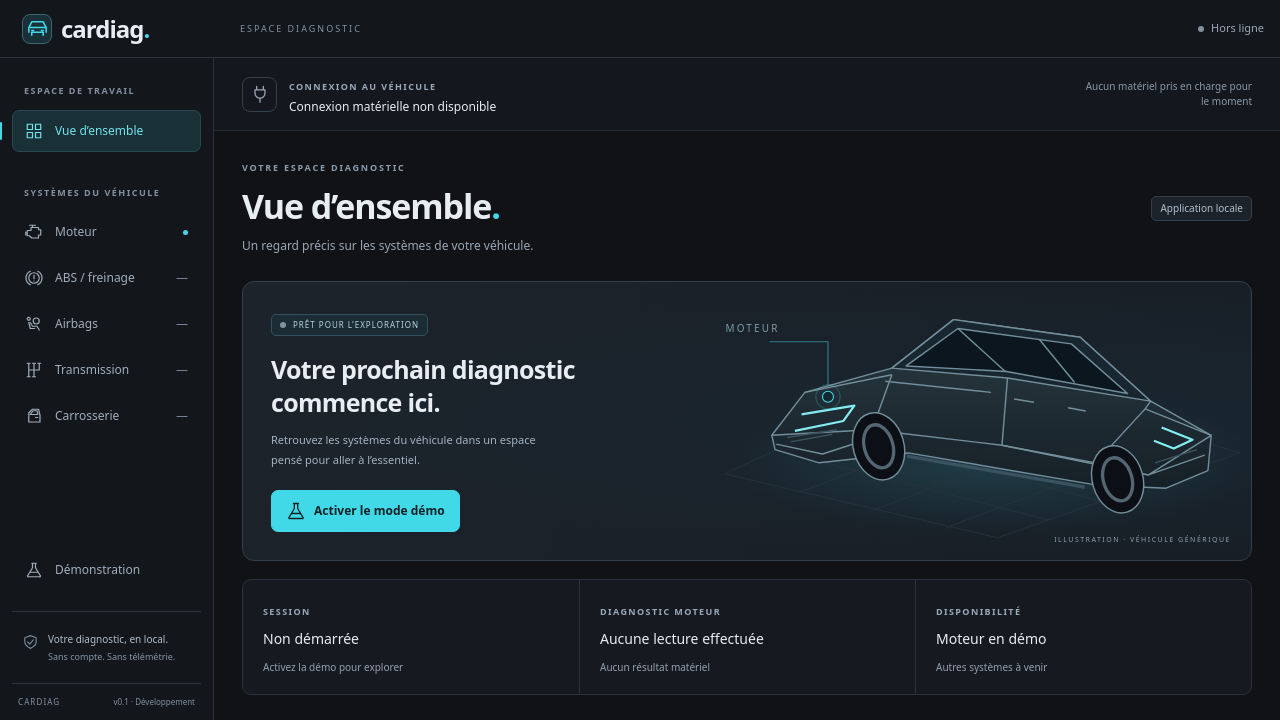
Test: parcours de diagnostic simulé › garde la bannière démo si le service disparaît
Click the button "Activer le mode démo" at (365, 511), box [271, 490, 460, 532]
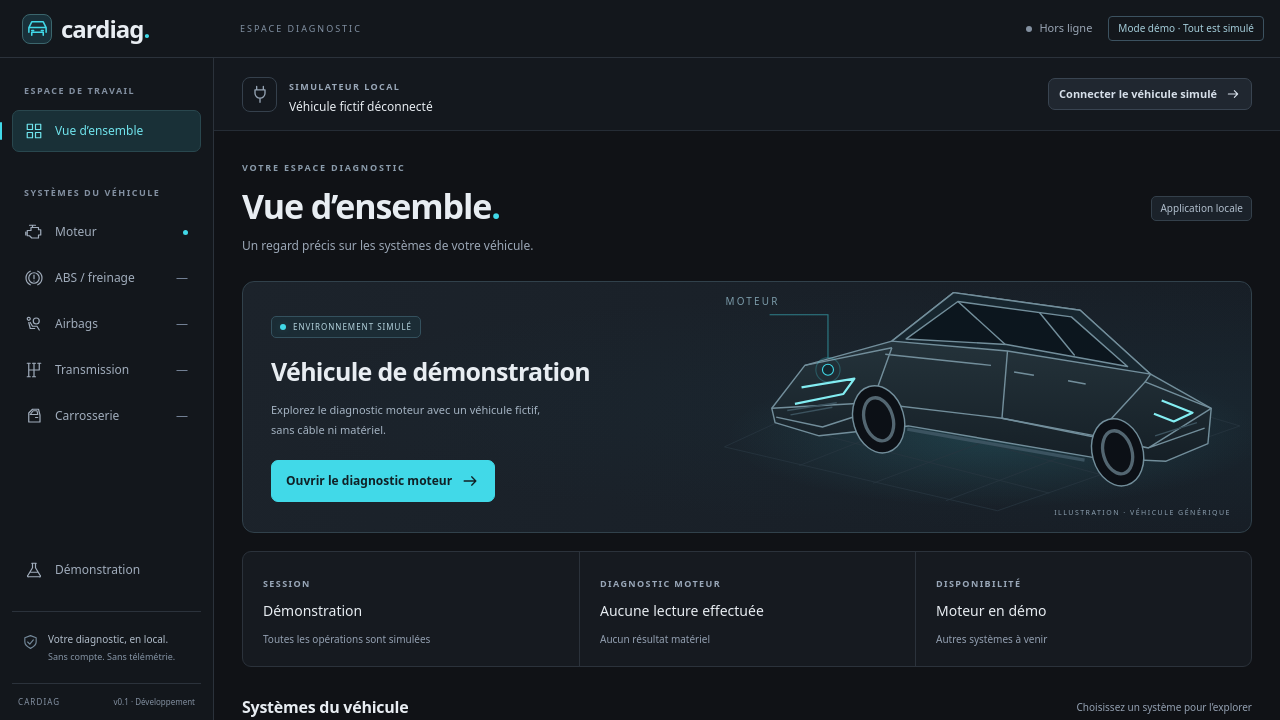
Now the button "Connecter le véhicule simulé" is enabled
Click the button "Connecter le véhicule simulé" at (1150, 94), box [1048, 78, 1252, 110]
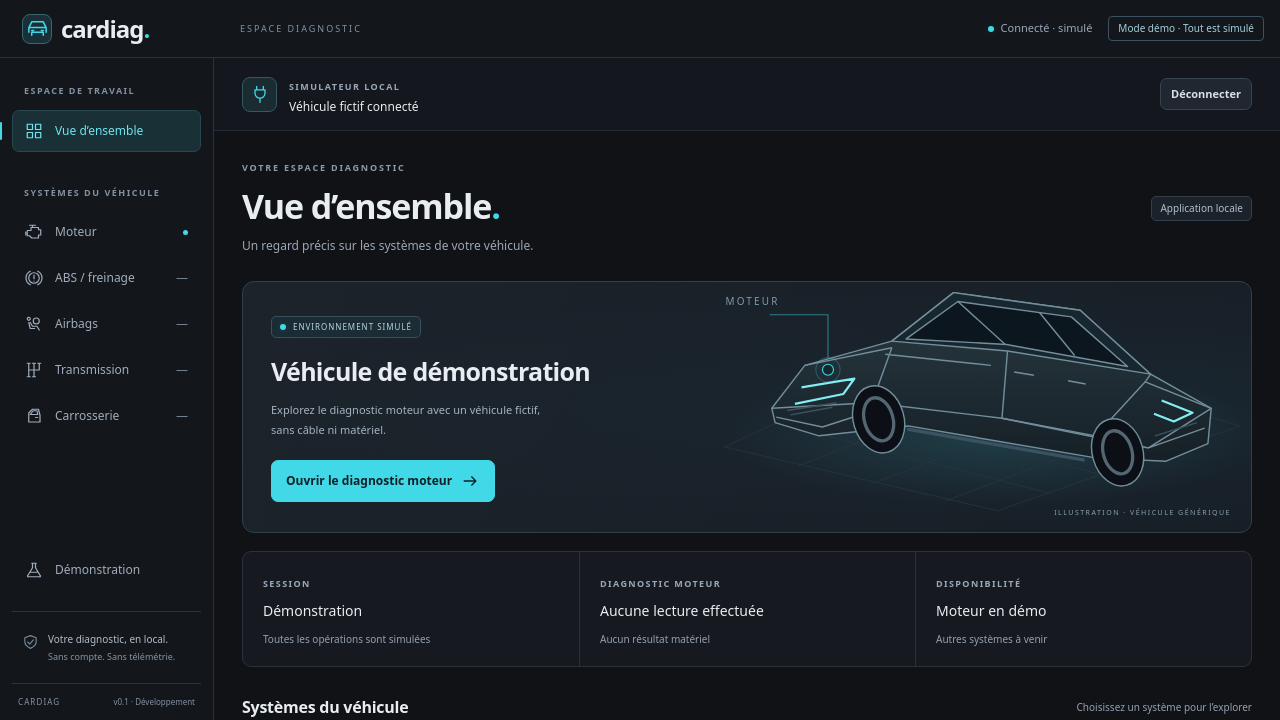
Now the text "Véhicule fictif connecté" is shown, box [289, 98, 418, 116]
Click the button "Moteur" at (106, 232), box [12, 211, 201, 253]
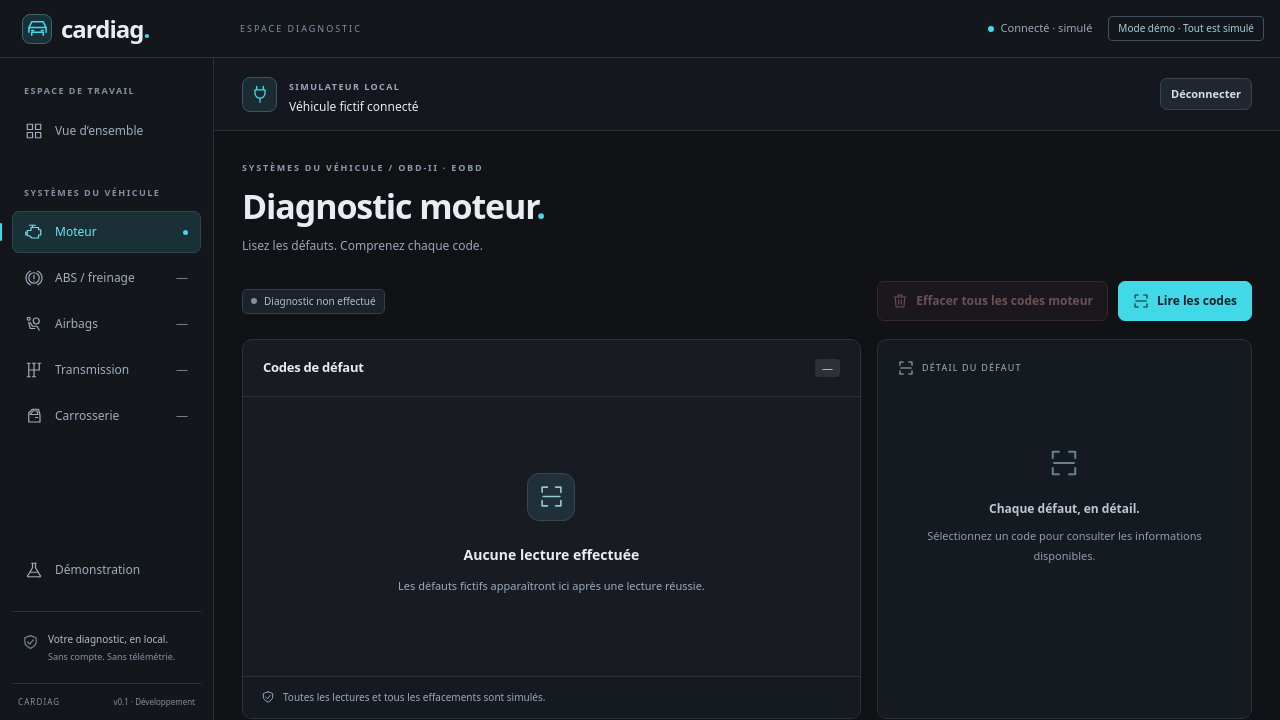
Click the button "Lire les codes" at (1185, 301), box [1118, 281, 1252, 321]
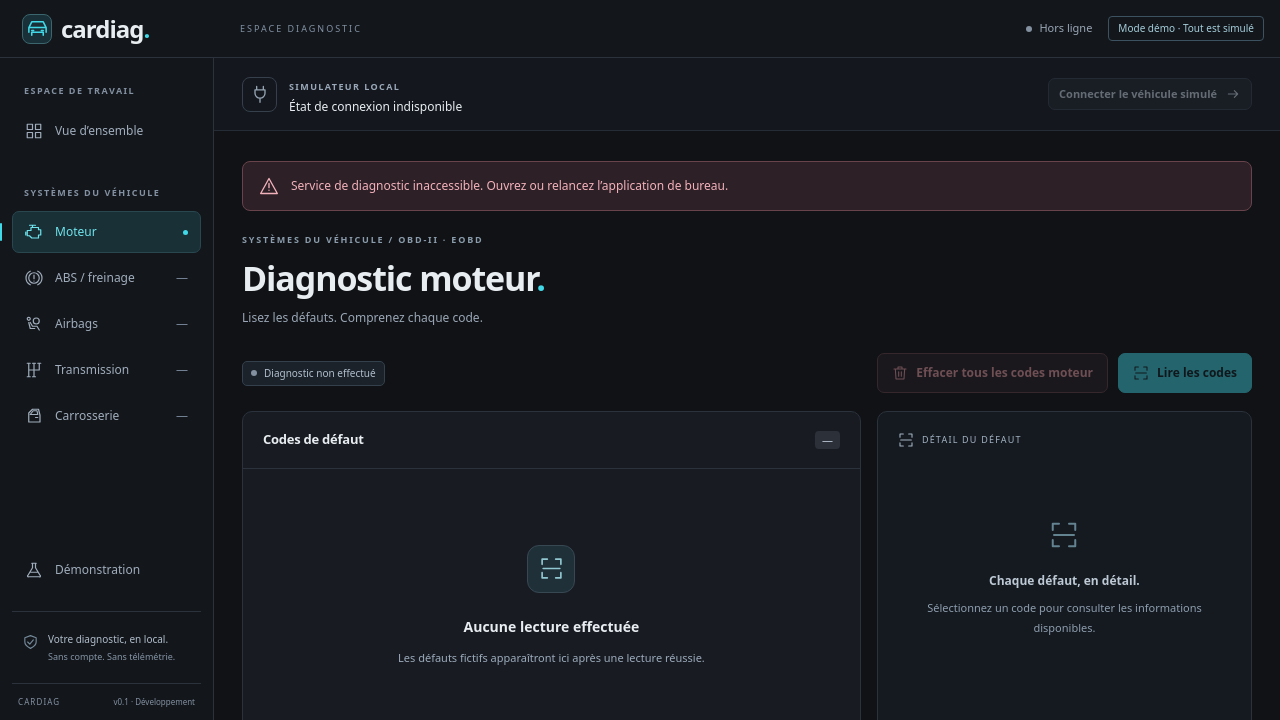
Now the text "Mode démo · Tout est simulé" is shown, box [1108, 16, 1264, 41]
Now the 2nd message shows "Service de diagnostic inaccessible", box [291, 177, 728, 194]
Now the button "Lire les codes" is disabled, box [1118, 353, 1252, 393]
